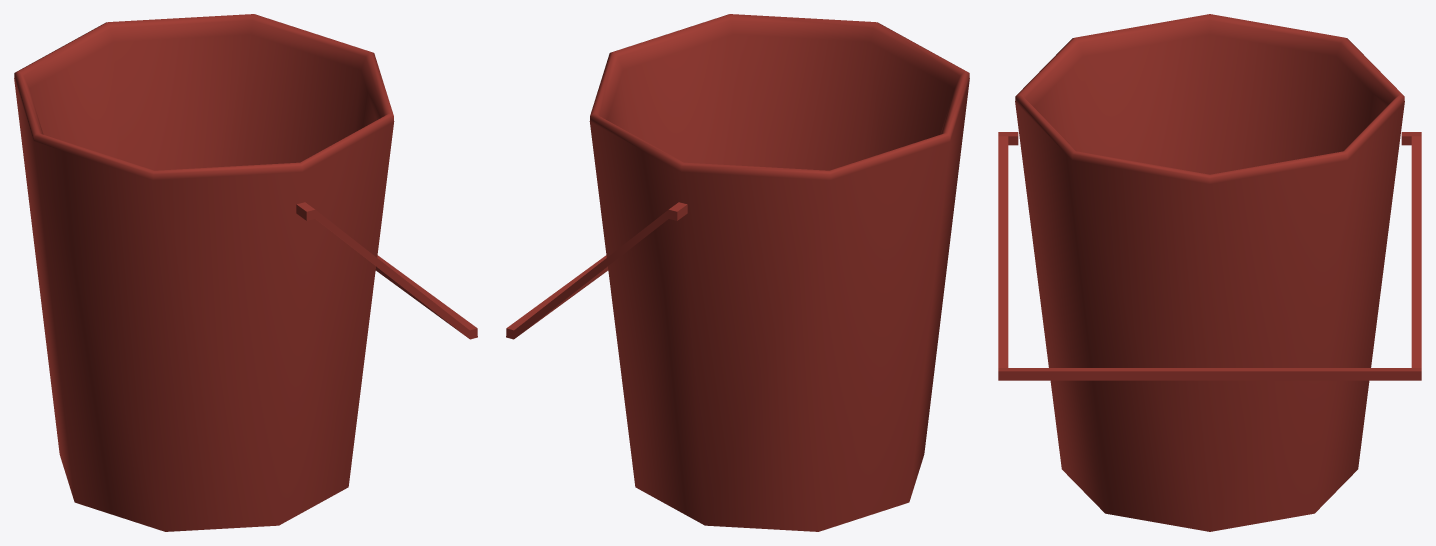
The model's file is bucket.fbx.
The picture shows the model from 3 angles, left to right: view 1: azimuth 30°, elevation 25°; view 2: azimuth 150°, elevation 25°; view 3: azimuth 270°, elevation 25°; orthographic projection.
Visible parts, largest first — view 1: bucket; view 2: bucket; view 3: bucket.
Boxes of the visible parts, x1,y1,x2,y2 form: bucket: [14, 14, 477, 531]; bucket: [506, 14, 969, 531]; bucket: [998, 14, 1421, 531].
Size of the model in its own units: 179 by 190 by 194.
